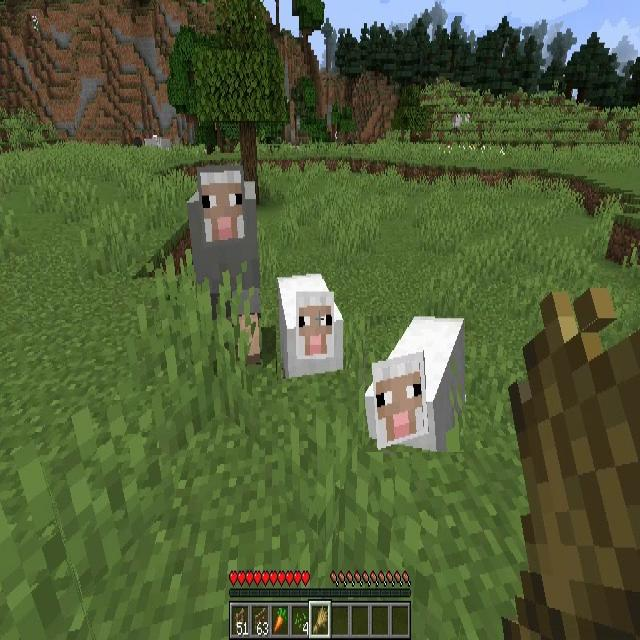sheep: (190, 168, 264, 358), (365, 316, 465, 452), (278, 276, 344, 374)
